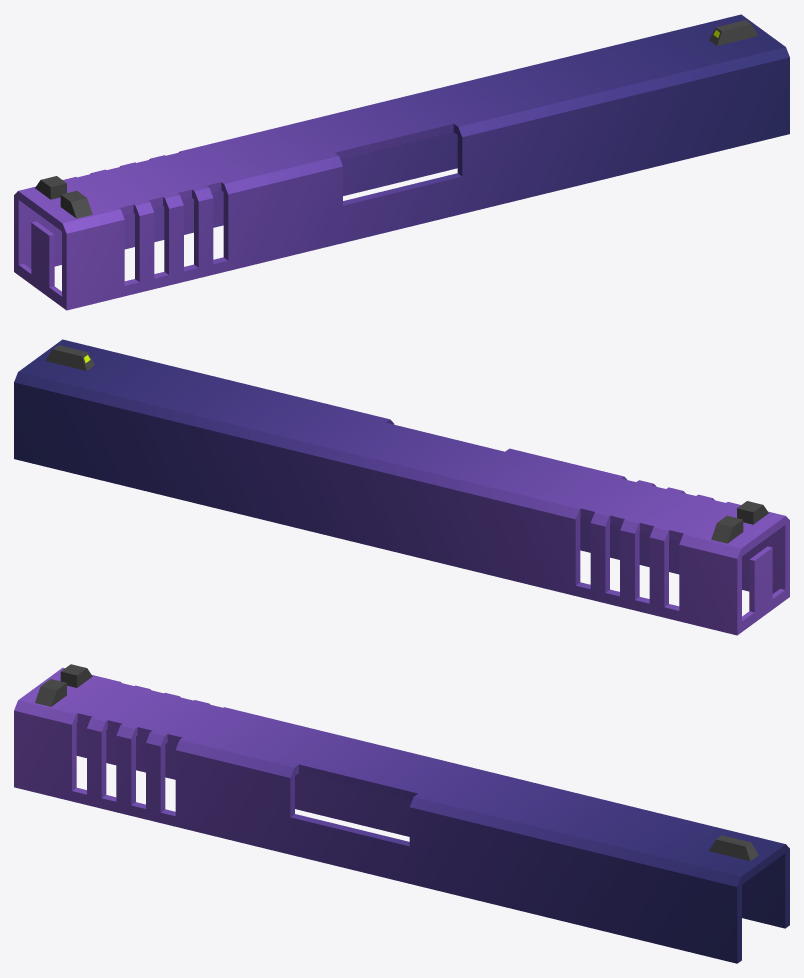
The model's file is Pistol4_04_2.fbx.
3 renders of one model, top to bottom at view 1: azimuth 30°, elevation 25°; view 2: azimuth 150°, elevation 25°; view 3: azimuth 330°, elevation 25°, orthographic.
Visible parts, largest first — view 1: Pistol4_04_2; view 2: Pistol4_04_2; view 3: Pistol4_04_2.
Boxes of the visible parts, x1=… form: Pistol4_04_2: x1=14, y1=14, x2=789, y2=310; Pistol4_04_2: x1=14, y1=339, x2=789, y2=635; Pistol4_04_2: x1=14, y1=664, x2=789, y2=963.
Size of the model in its own units: 0.224 by 0.0286 by 0.0283.
